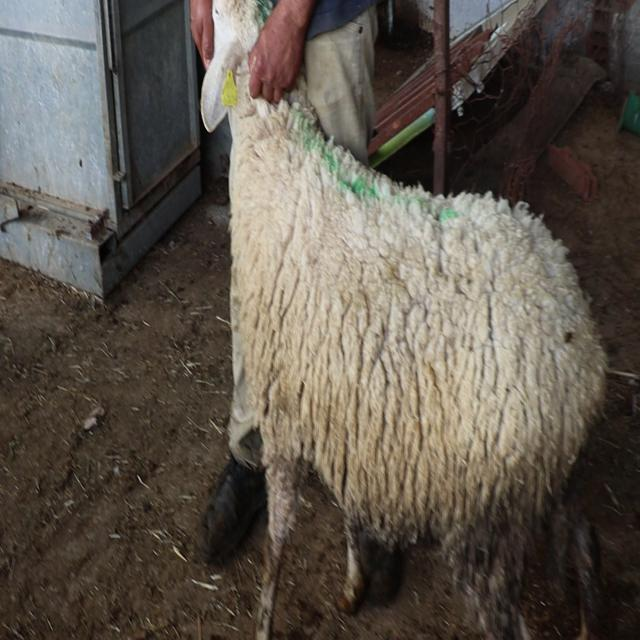Score_4: (201, 0, 607, 639)
